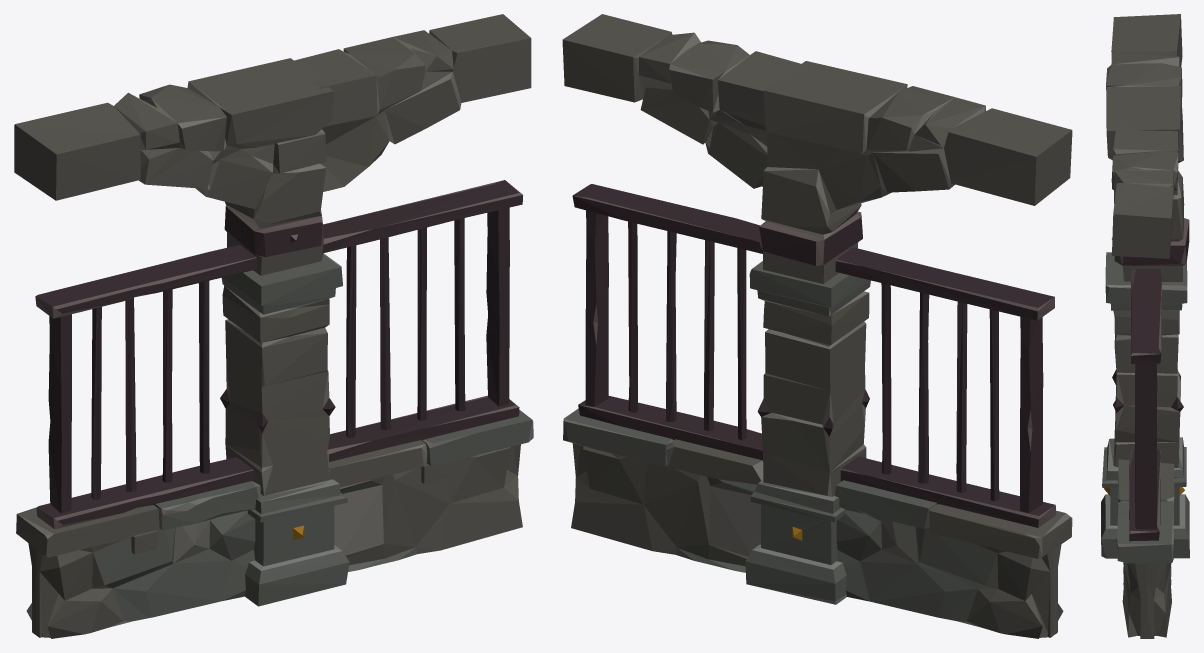
The model's file is MDungeons_Walls_MetalBars_03.FBX.
3 views of the same model, side by side, from view 1: azimuth 30°, elevation 25°; view 2: azimuth 150°, elevation 25°; view 3: azimuth 270°, elevation 25° (orthographic). The views are drawn at different scales.
Parts seen in each view (by area): view 1: MDungeons_Walls_MetalBars_03_LOD0; view 2: MDungeons_Walls_MetalBars_03_LOD0; view 3: MDungeons_Walls_MetalBars_03_LOD0.
Boxes of the visible parts, left/top/right/bottom form: MDungeons_Walls_MetalBars_03_LOD0: left=14, top=14, right=533, bottom=638; MDungeons_Walls_MetalBars_03_LOD0: left=562, top=14, right=1072, bottom=638; MDungeons_Walls_MetalBars_03_LOD0: left=1101, top=14, right=1189, bottom=638.
Size of what is drawn, in the model's own units: 6.1 by 6.03 by 1.13.
